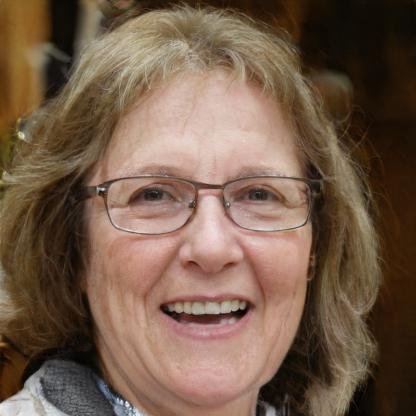glasses: (87, 170, 314, 238)
